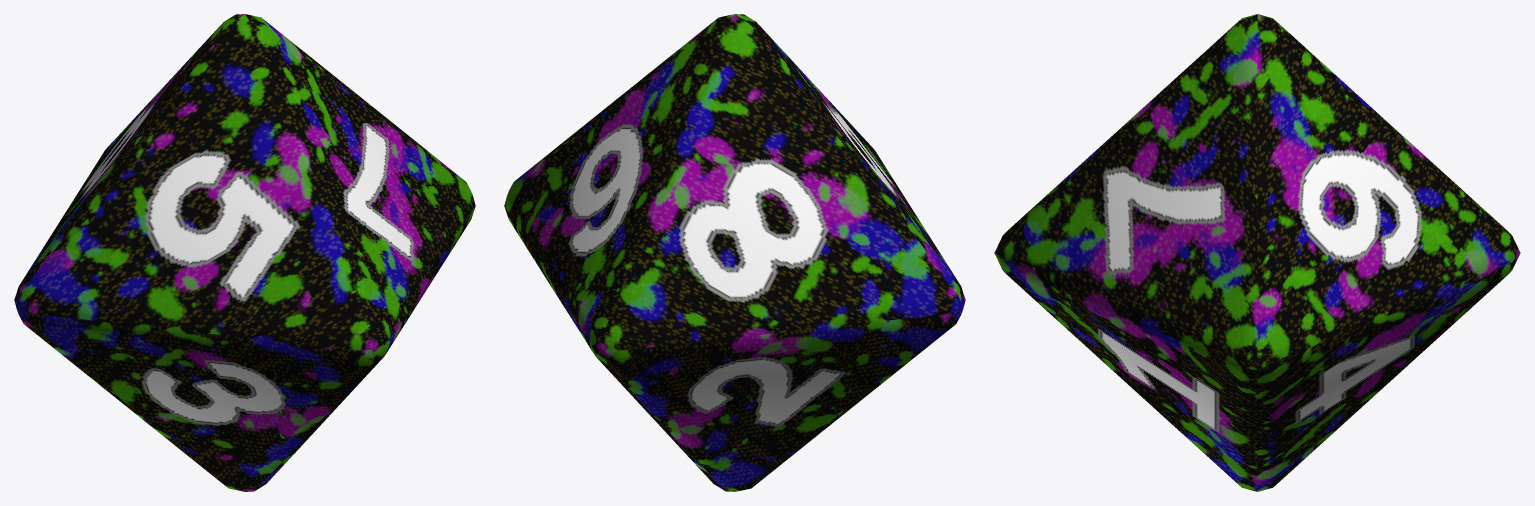
3 renders of one model, left to right at view 1: azimuth 30°, elevation 25°; view 2: azimuth 150°, elevation 25°; view 3: azimuth 270°, elevation 25°, orthographic.
Parts seen in each view (by area): view 1: 8TieDye_8TieDye_0; view 2: 8TieDye_8TieDye_0; view 3: 8TieDye_8TieDye_0.
Boxes of the visible parts, <box> form: 8TieDye_8TieDye_0: <box>14,14,475,491</box>; 8TieDye_8TieDye_0: <box>504,14,965,491</box>; 8TieDye_8TieDye_0: <box>994,14,1520,491</box>.
Size of the model in its own units: 1.86 by 1.86 by 1.86.
Materials: 1 (1 with a texture image).
